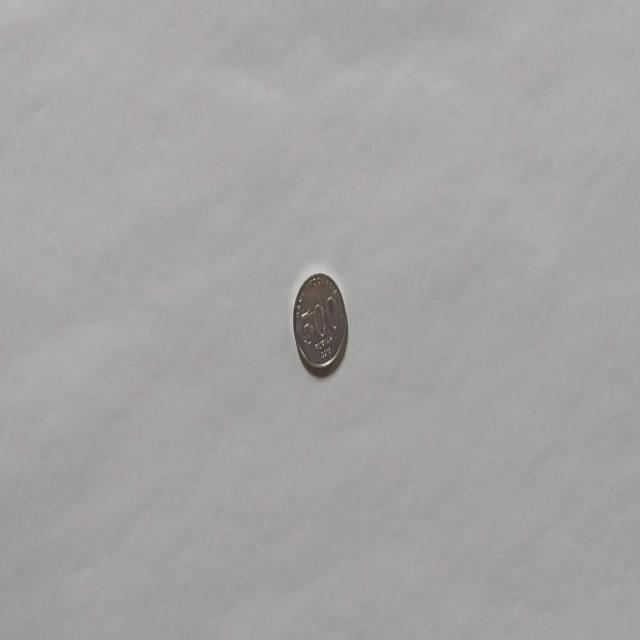lima ratus rupiah: (292, 270, 348, 376)
